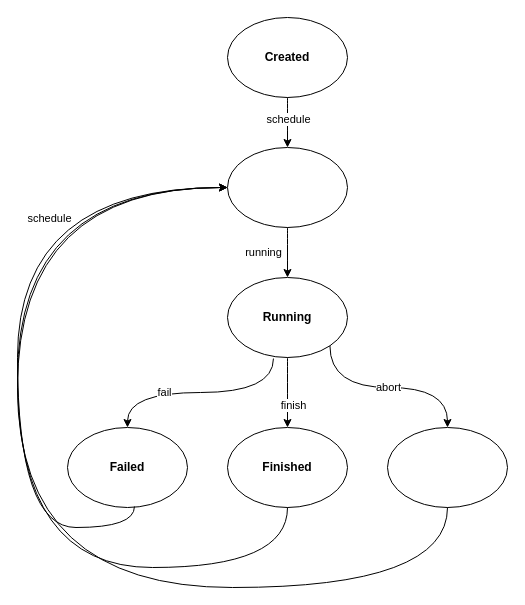
This 525x605 diagram has some shape labels left out. The centre of each missing label's shape, as x and y in pixels:
"Aborted" goes at point 447,467.
"Scheduled" goes at point 287,187.
